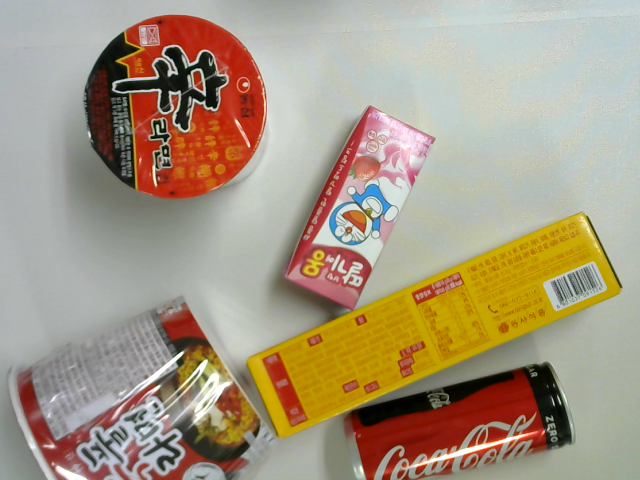Coca_Cola_Zero_Can_250ml: (343, 362, 580, 480)
Hejangpul: (6, 294, 277, 480)
Ritz_Sand_Cracker: (246, 213, 621, 440)
Sinramen_small: (82, 11, 270, 200)
Strawberry_E_Mong: (280, 104, 440, 311)
